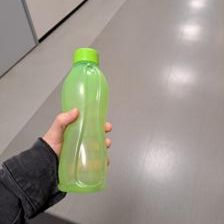bottle: (52, 46, 109, 194)
